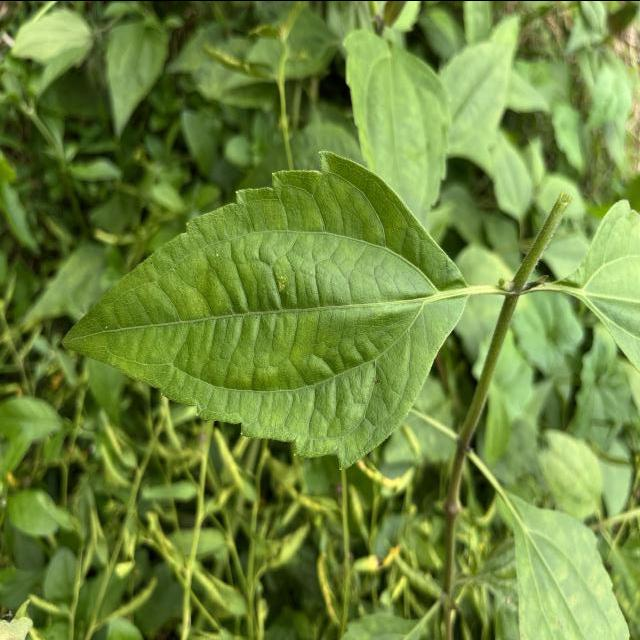Chromolaena odorata: (57, 145, 472, 474)
